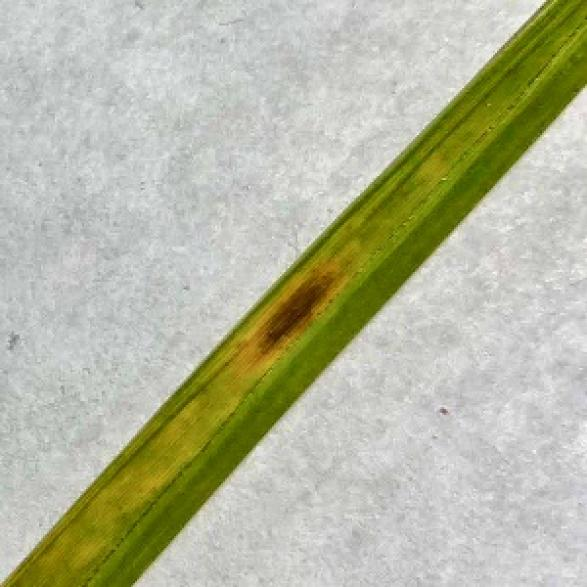Leaf_smut: (149, 250, 376, 426)
